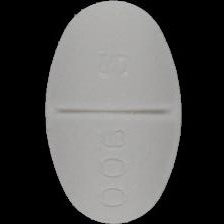68788-6358: (0, 0, 224, 224)
